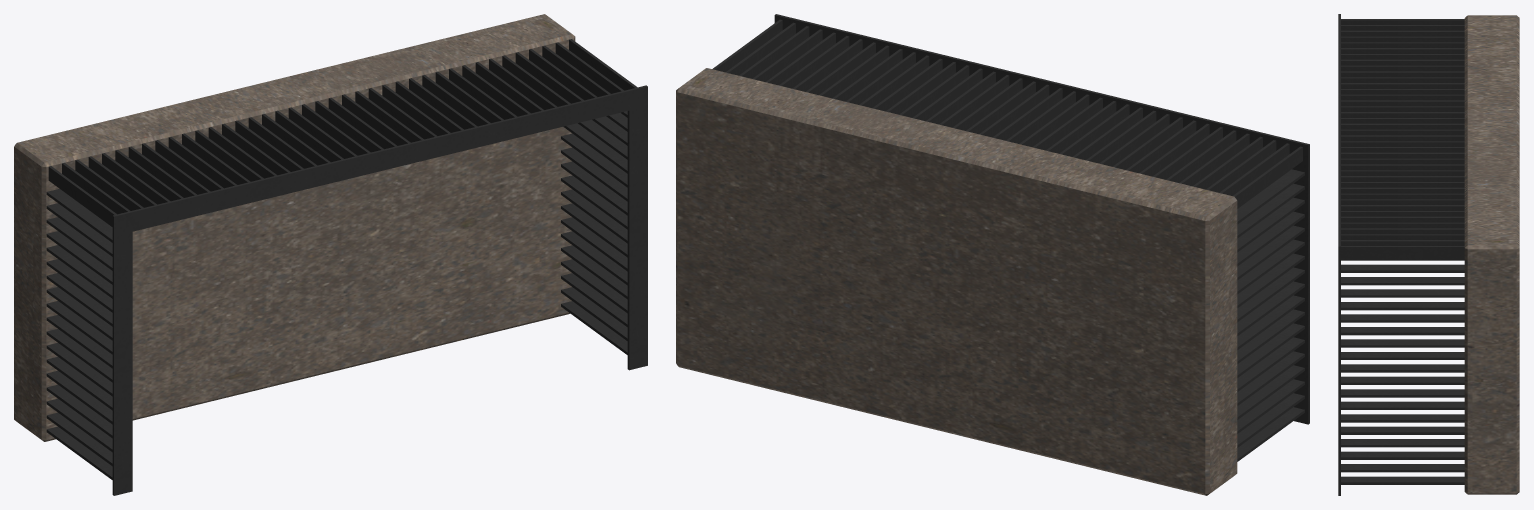
The model's file is house_balconny.glb.
The picture shows the model from 3 angles, left to right: view 1: azimuth 30°, elevation 25°; view 2: azimuth 150°, elevation 25°; view 3: azimuth 270°, elevation 25°; orthographic projection. The views are drawn at different scales.
Parts seen in each view (by area): view 1: Balconny; view 2: Balconny; view 3: Balconny.
Boxes of the visible parts, x1,y1,x2,y2 form: Balconny: (14, 14, 647, 495); Balconny: (676, 14, 1309, 495); Balconny: (1338, 14, 1519, 495).
Size of the model in its own units: 400 by 200 by 132.
2 materials, 2 textured.
